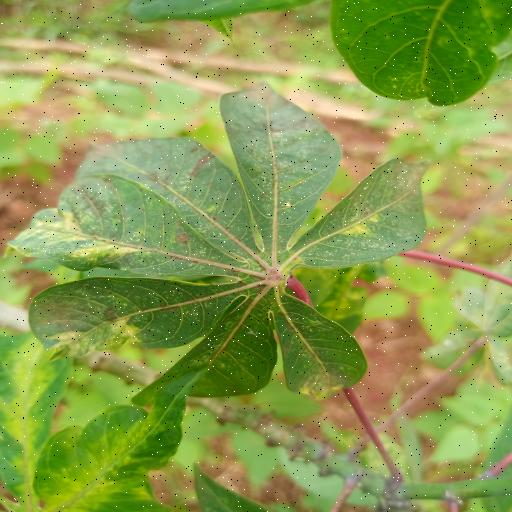Cassava_Mosaic: (5, 81, 447, 408)
